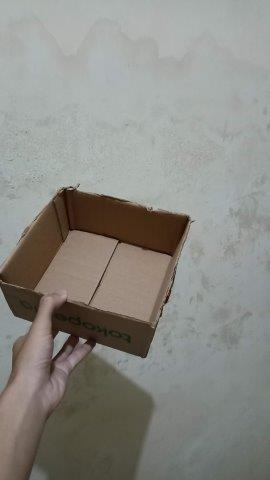kardus: (1, 185, 190, 356)
